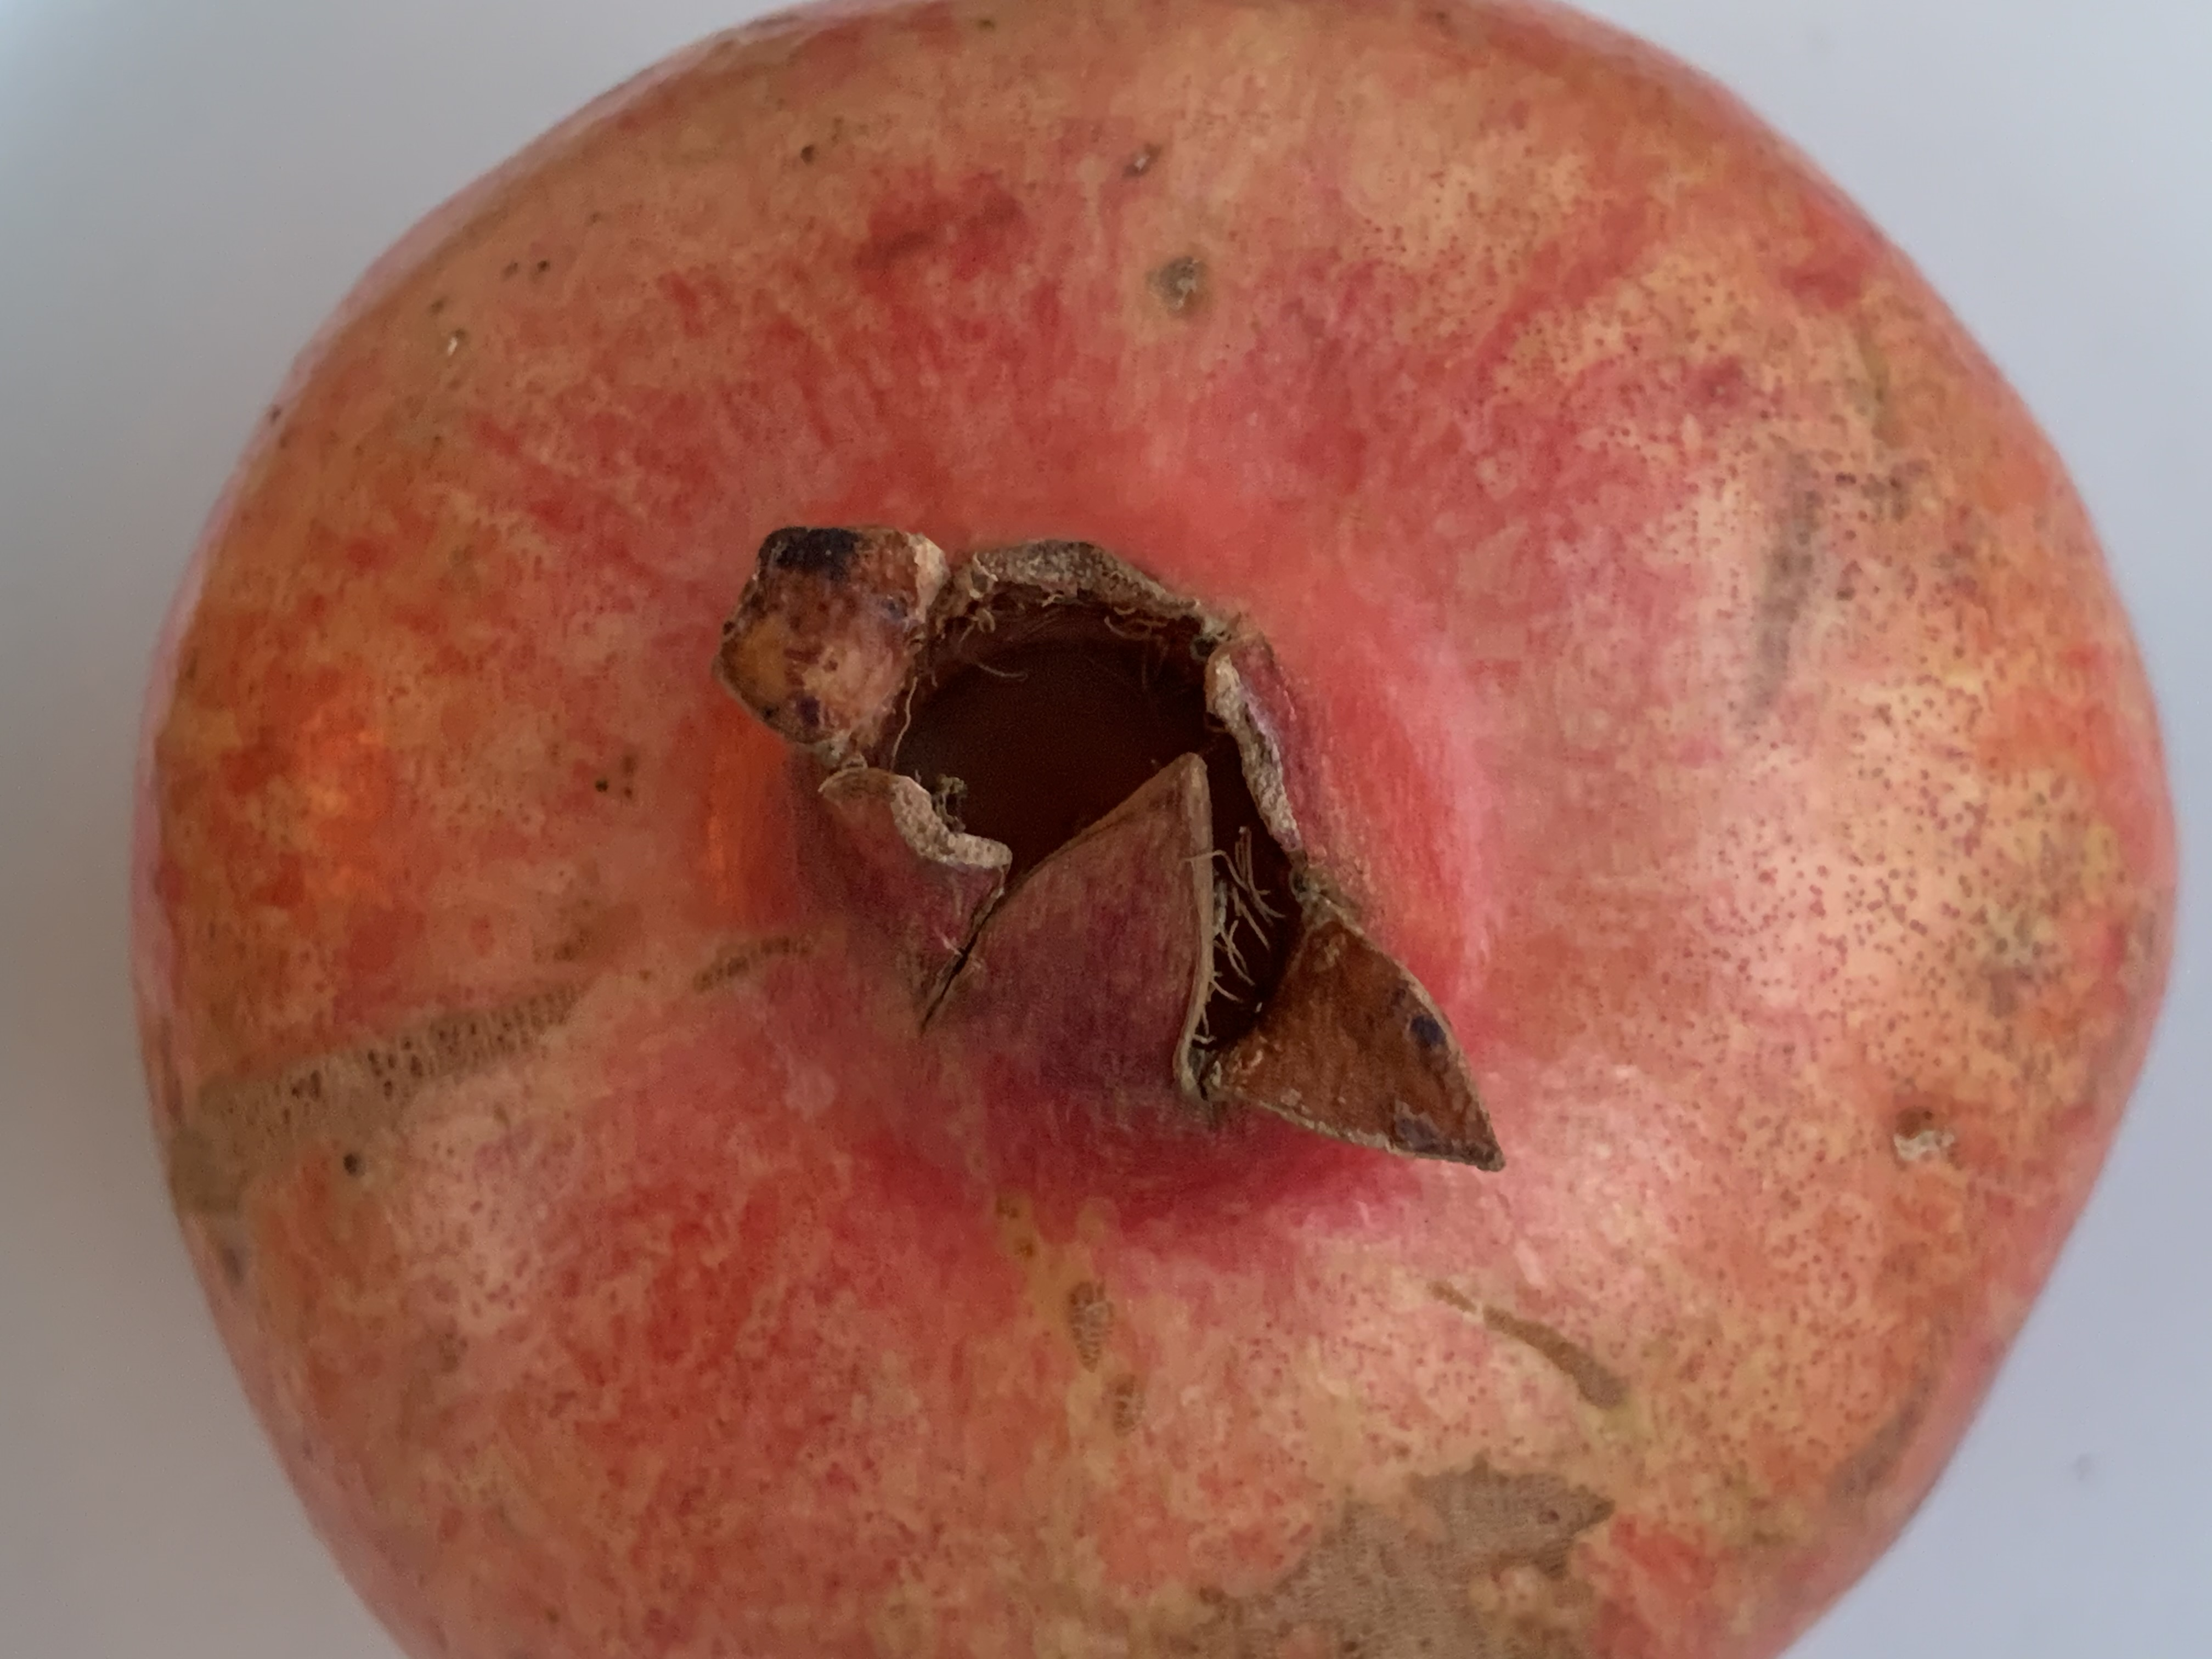Pomegranate: (132, 12, 2202, 1659)
